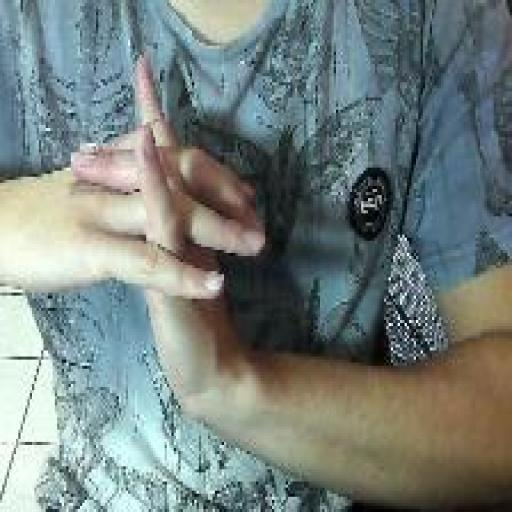Ushi -ox-: (68, 50, 268, 438)
